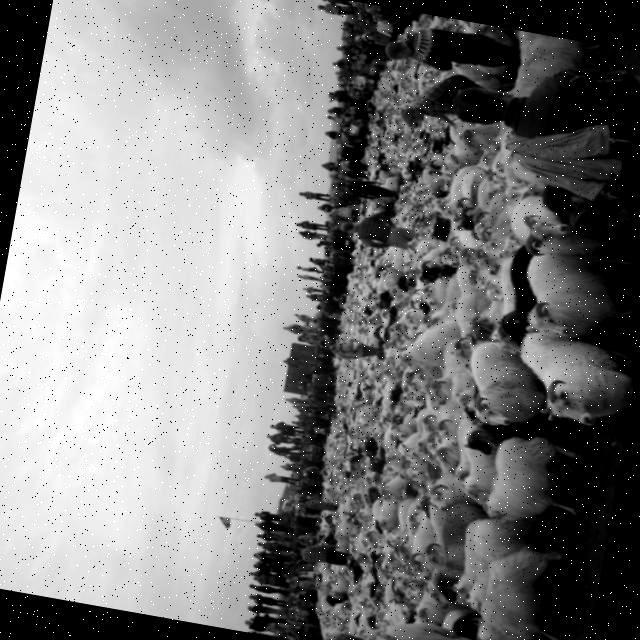sheep: (476, 436, 579, 521)
